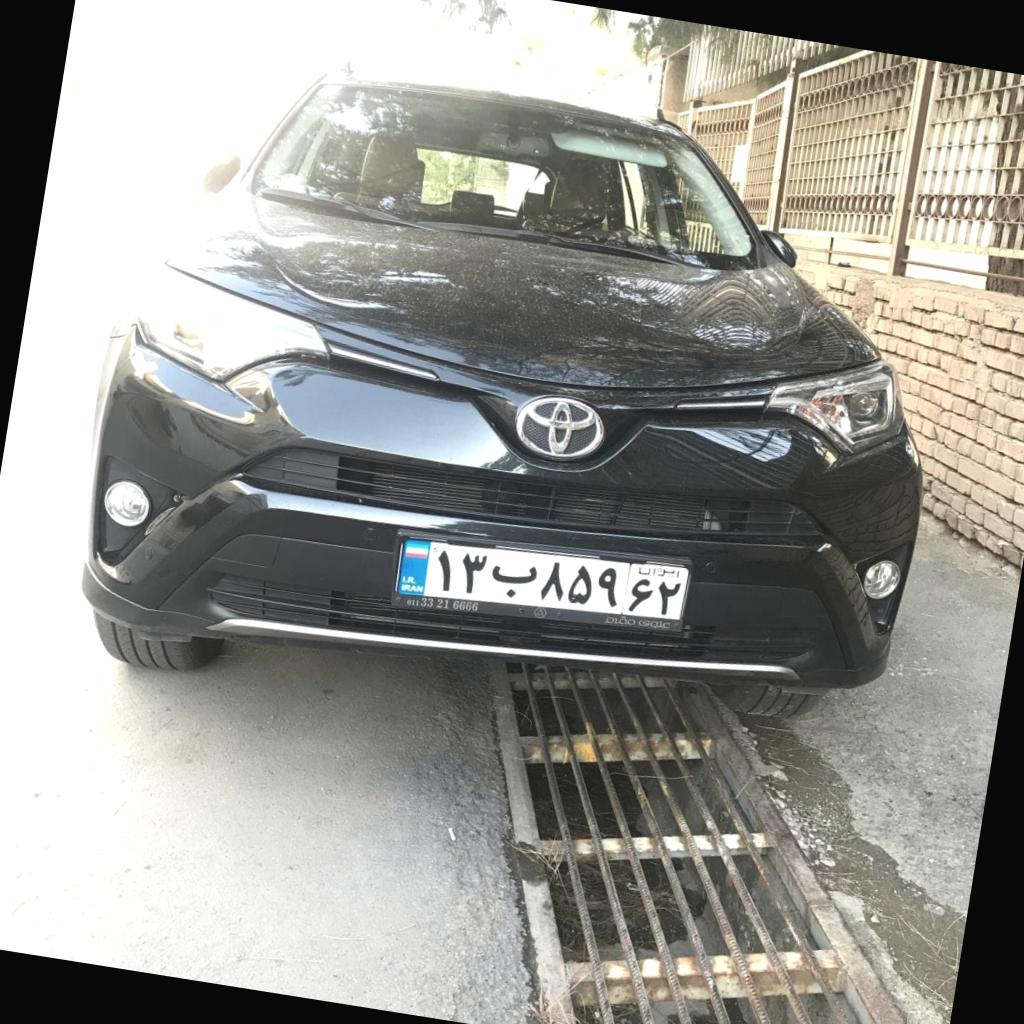Plates: (394, 535, 690, 617)
